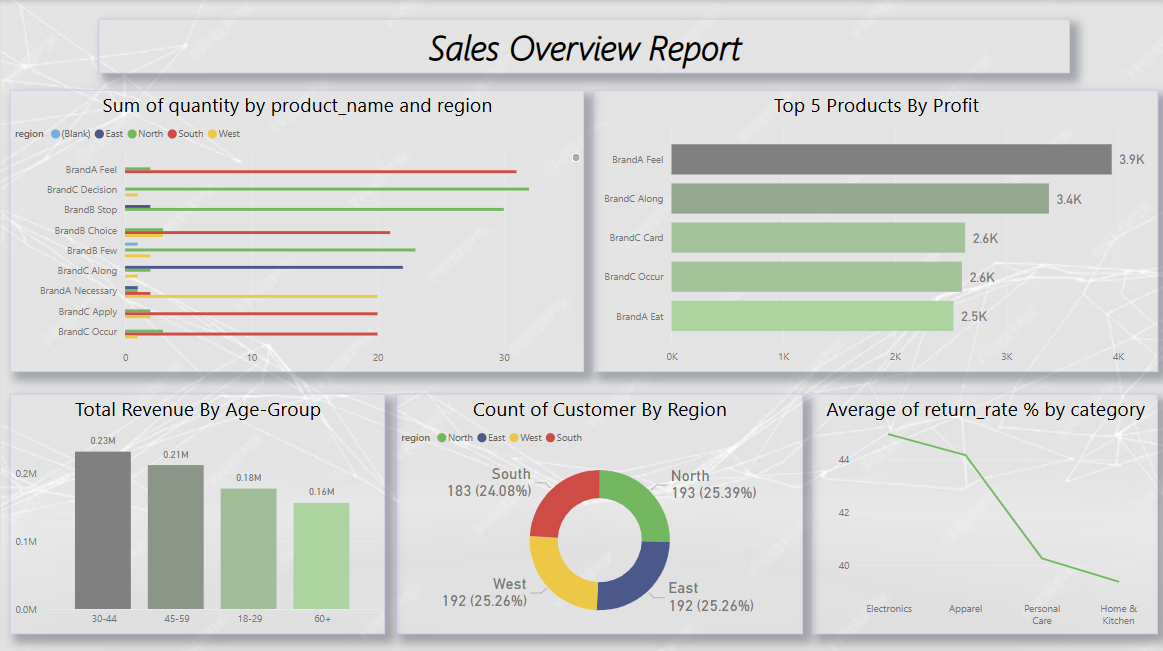

Layout of this report page (visuals, bound fields, positions):
{"tool":"powerbi","page":{"name":"1","canvas":[1280,720],"ordinal":0},"visuals":[{"type":"donutChart","title":"Count of Customer By Region","fields":{"Category":["Customer.region"],"Y":["CountNonNull(Customer.customer_id)"]},"box":[433.3,431.9,446.1,263.7],"z":0},{"type":"columnChart","title":"Total Revenue By Age-Group","fields":{"Category":["Customer.Age_Group"],"Y":["Sum(Sales_data.total_amount)"]},"box":[10,431.9,411.9,263.7],"z":1000},{"type":"lineChart","fields":{"Category":["Products.category"],"Y":["Avg(Returns.return_rate %)"]},"box":[890.9,431.9,379.2,263.7],"z":2000},{"type":"clusteredBarChart","fields":{"Category":["Products.product_name"],"Y":["Sum(Sales_data.quantity)"],"Series":["Customer.region"]},"box":[10,98.4,630,309.3],"z":3000},{"type":"barChart","title":"Top 5 Products By Profit","fields":{"Category":["Products.product_name"],"Y":["Sum(Sales_data.profit)"]},"box":[650,98.4,620,309.3],"z":4000},{"type":"textbox","box":[106.9,20,1066.2,59.9],"z":5000}]}

Visuals, with their boxes in screenshot pixels (x1, y1, x2, y2), scaled from the page's 1280x720 canvas onto the 1163x651 screenshot:
"Count of Customer By Region" donutChart: <bbox>394, 391, 799, 629</bbox>
"Total Revenue By Age-Group" columnChart: <bbox>9, 391, 383, 629</bbox>
lineChart - Products.category x Avg(Returns.return_rate %): <bbox>809, 391, 1154, 629</bbox>
clusteredBarChart - Products.product_name x Sum(Sales_data.quantity): <bbox>9, 89, 582, 369</bbox>
"Top 5 Products By Profit" barChart: <bbox>591, 89, 1154, 369</bbox>
textbox: <bbox>97, 18, 1066, 72</bbox>
